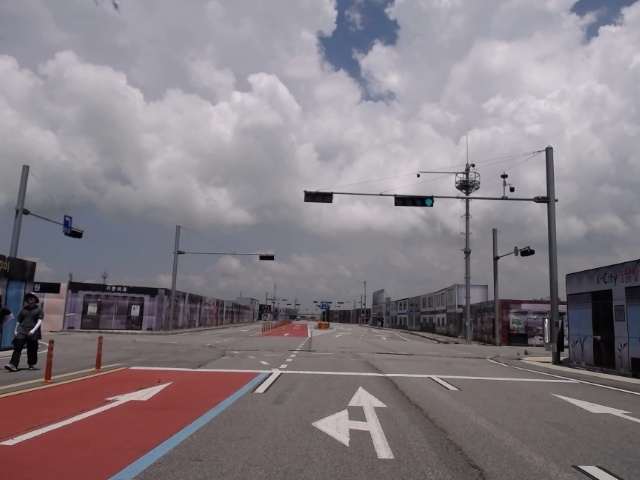straight_green_4: (393, 195, 435, 208)
